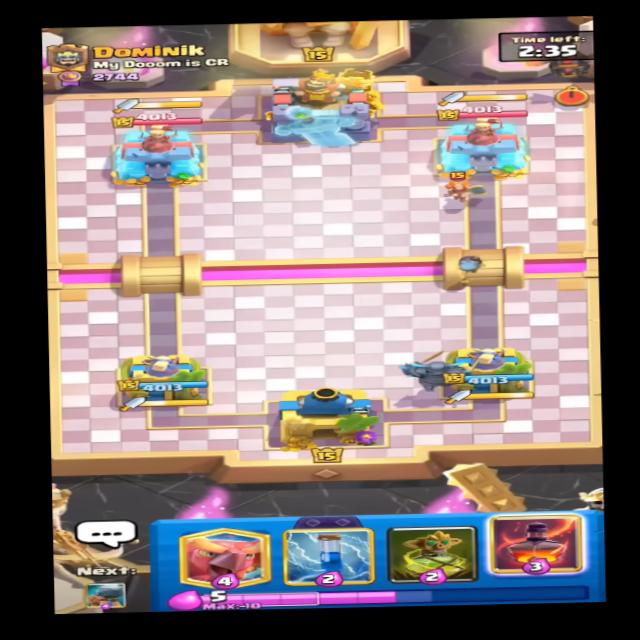lava-hound: (518, 43, 594, 88)
valkyrie: (436, 171, 491, 201)
